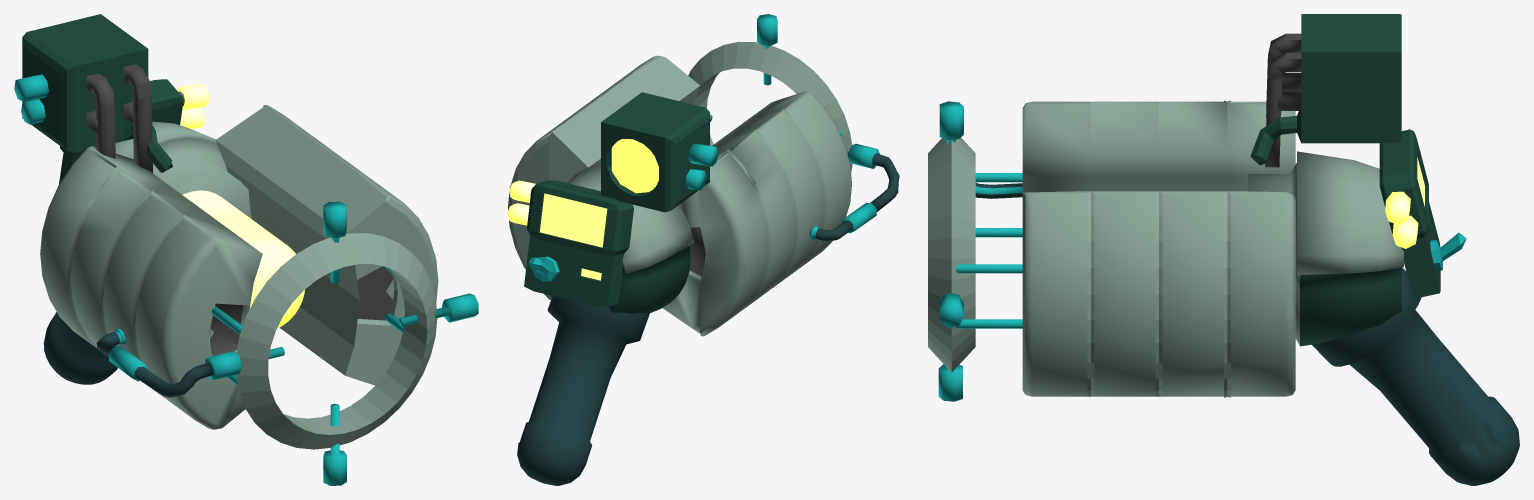
The model's file is GUN 1.fbx.
3 views of the same model, side by side, from view 1: azimuth 30°, elevation 25°; view 2: azimuth 150°, elevation 25°; view 3: azimuth 270°, elevation 25° (orthographic). The views are drawn at different scales.
Visible parts, largest first — view 1: Cylinder.003, Cylinder.002, Torus.001, Cube.003, Cylinder.004, Cylinder.008, Cylinder.017, Cube.002, Cylinder.007, Cylinder.006, Cylinder.005, Cylinder.009 (+2 smaller); view 2: Cylinder.003, Cylinder.017, Cube.002, Cube.003, Cylinder.002, Cylinder.004, Torus.001, Cylinder.008, Cylinder.005, Cylinder.009, Cylinder.011; view 3: Cylinder.002, Cylinder.003, Cylinder.004, Cube.003, Cylinder.017, Torus.001, Cube.002, Cylinder.005, Cylinder.006, Cylinder.007, Cylinder.011, Cylinder.008 (+3 smaller).
Boxes of the visible parts, bbox=[...] form: Cylinder.003: bbox=[40, 146, 262, 429]; Cylinder.002: bbox=[216, 105, 438, 385]; Torus.001: bbox=[236, 233, 437, 449]; Cube.003: bbox=[22, 14, 172, 173]; Cylinder.004: bbox=[115, 121, 304, 328]; Cylinder.008: bbox=[96, 328, 284, 397]; Cylinder.017: bbox=[43, 312, 117, 384]; Cube.002: bbox=[59, 79, 183, 184]; Cylinder.007: bbox=[399, 293, 478, 326]; Cylinder.006: bbox=[323, 403, 346, 485]; Cylinder.005: bbox=[323, 201, 346, 283]; Cylinder.009: bbox=[14, 74, 48, 101]; Cylinder.003: bbox=[662, 91, 851, 336]; Cylinder.017: bbox=[517, 297, 650, 485]; Cube.002: bbox=[524, 180, 633, 306]; Cube.003: bbox=[601, 92, 709, 212]; Cylinder.002: bbox=[508, 55, 700, 299]; Cylinder.004: bbox=[550, 164, 694, 313]; Torus.001: bbox=[688, 41, 852, 172]; Cylinder.008: bbox=[809, 143, 899, 240]; Cylinder.005: bbox=[757, 14, 777, 85]; Cylinder.009: bbox=[688, 143, 718, 166]; Cylinder.011: bbox=[509, 180, 535, 202]; Cylinder.002: bbox=[1022, 191, 1295, 397]; Cylinder.003: bbox=[1022, 100, 1295, 192]; Cylinder.004: bbox=[1248, 151, 1403, 346]; Cube.003: bbox=[1250, 14, 1401, 167]; Cylinder.017: bbox=[1312, 267, 1519, 485]; Torus.001: bbox=[928, 138, 975, 372]; Cube.002: bbox=[1379, 129, 1466, 298]; Cylinder.005: bbox=[939, 101, 963, 143]; Cylinder.006: bbox=[938, 364, 962, 401]; Cylinder.007: bbox=[939, 292, 963, 328]; Cylinder.011: bbox=[1385, 191, 1410, 224]; Cylinder.008: bbox=[975, 183, 1022, 198].
Size of the model in its own units: 134 by 167 by 214.
